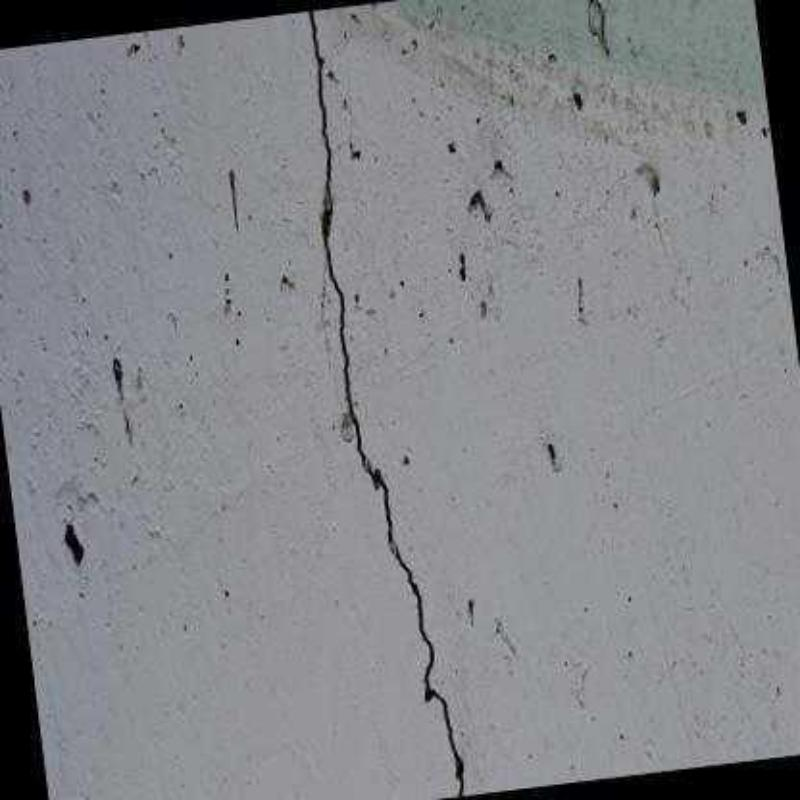pothole: (306, 8, 466, 796), (319, 257, 330, 371)
